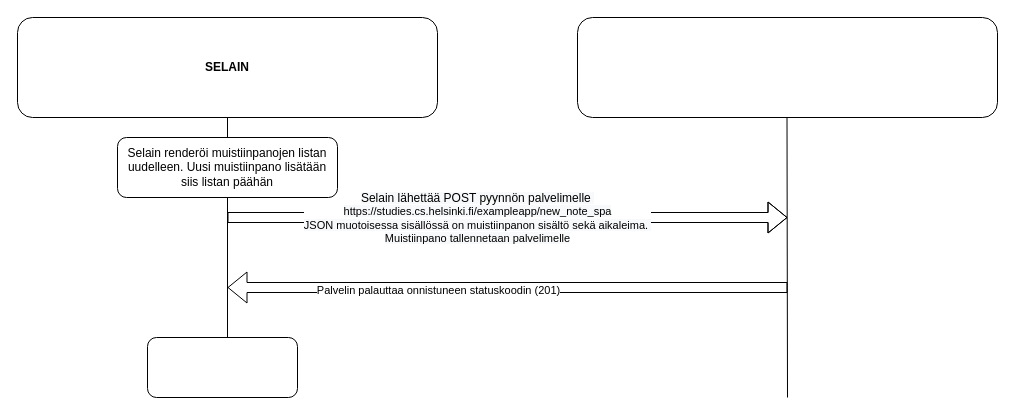
Some shapes in this 1015 by 416 pixel diagram are drawn without their labels. The shapes that lost their labels are listed below. From the top down, each one's box as (x1, y1, x2, y2) in pixels, then its label:
(576, 16, 998, 118): PALVELIN
(146, 336, 298, 398): Selaimen konsoliin tulostetaan teksti onnistuneesta muistiinpanon luomisesta
